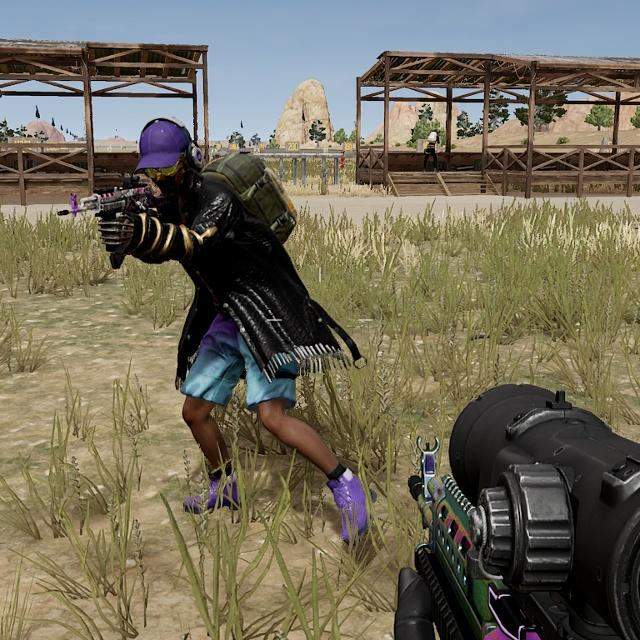head: (127, 115, 218, 202)
people: (102, 115, 387, 545)
